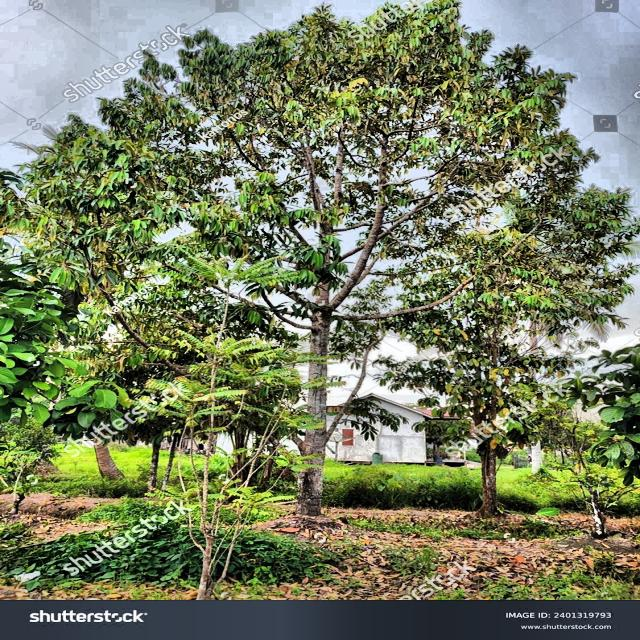arvore: (274, 181, 358, 527), (461, 281, 520, 514)
